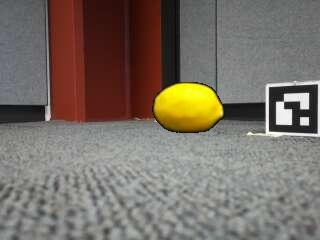lemon: (154, 83, 223, 133)
